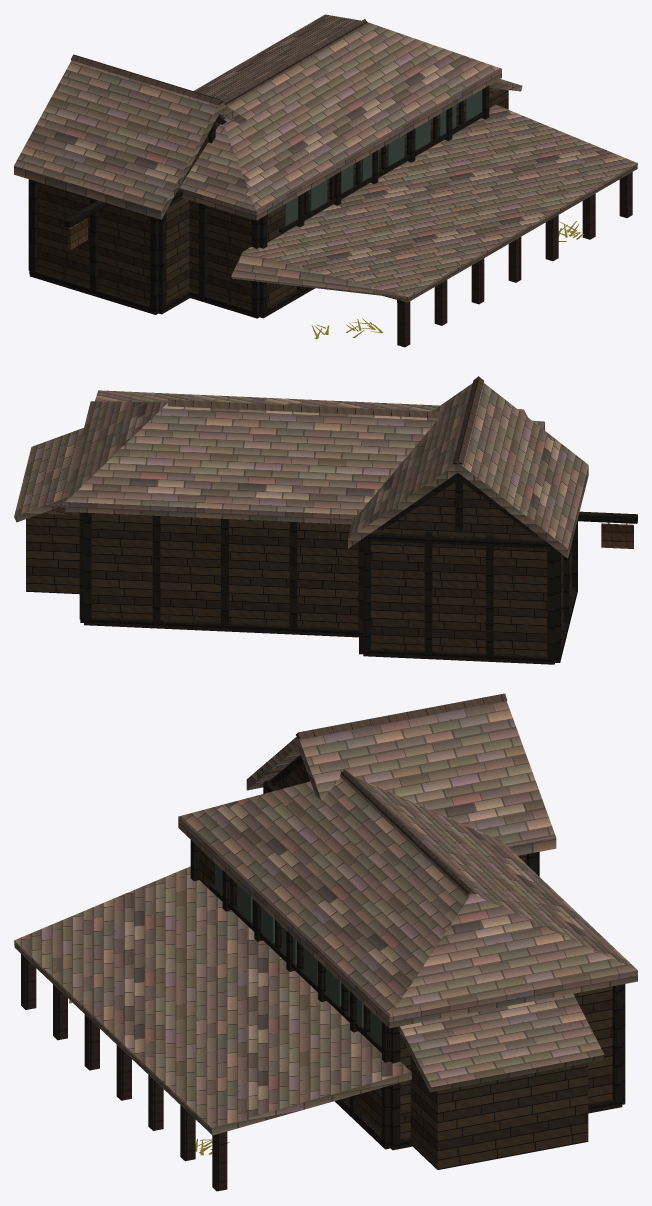
The model's file is Arabuild05.glb.
The picture shows the model from 3 angles, top to bottom: view 1: azimuth 30°, elevation 25°; view 2: azimuth 150°, elevation 25°; view 3: azimuth 270°, elevation 25°; orthographic projection. The views are drawn at different scales.
Parts seen in each view (by area): view 1: Arabuild05_hwall; view 2: Arabuild05_hwall; view 3: Arabuild05_hwall.
Boxes of the visible parts, x1,y1,x2,y2 form: Arabuild05_hwall: [14, 14, 637, 347]; Arabuild05_hwall: [14, 376, 637, 664]; Arabuild05_hwall: [14, 693, 637, 1191].
Bounding box in the file's own units: 18.57 × 6.23 × 15.14.
8 materials, 6 textured.
